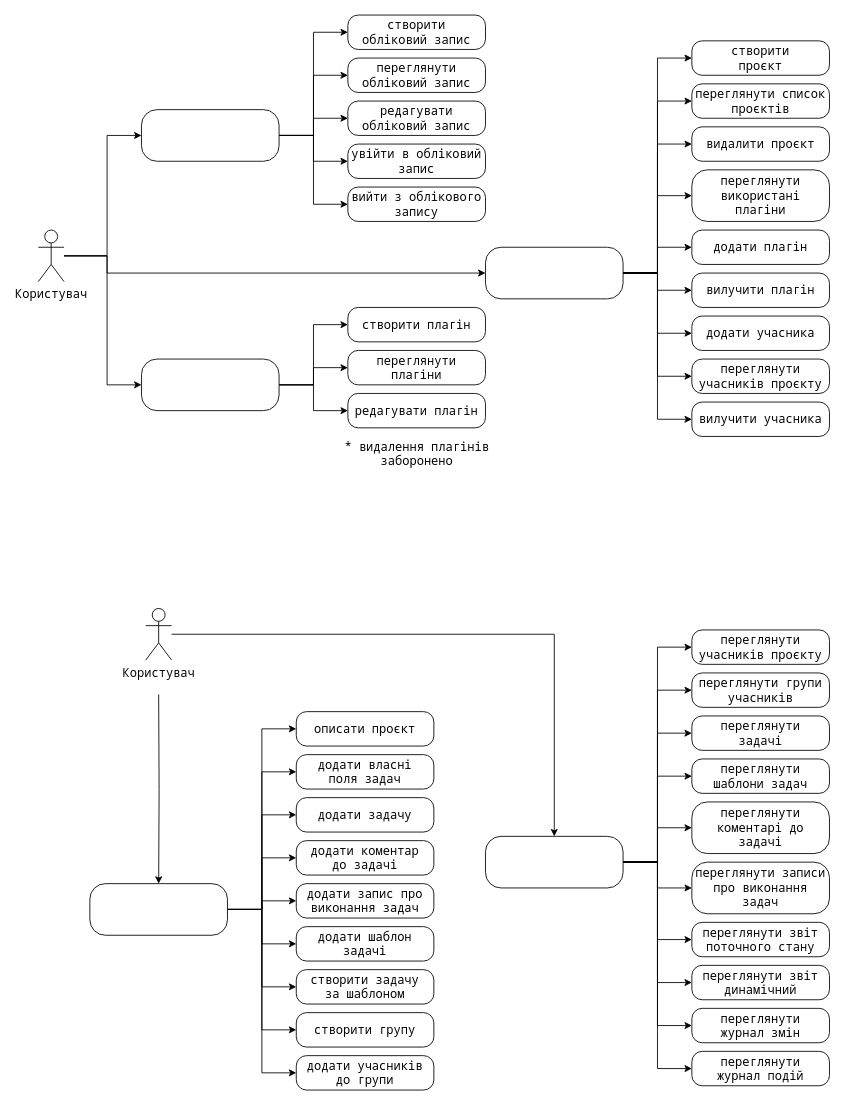
This 845x1105 diagram has some shape labels left out. Each missing label, with the centre of its shape:
"Адміністрування плагінів" goes at point (210, 384).
"Адміністрування проєкту" goes at point (554, 272).
"Огляд проєкту" goes at point (554, 861).
"Редагування проєкту" goes at point (158, 909).
"Управління обліковим записом" goes at point (210, 135).
